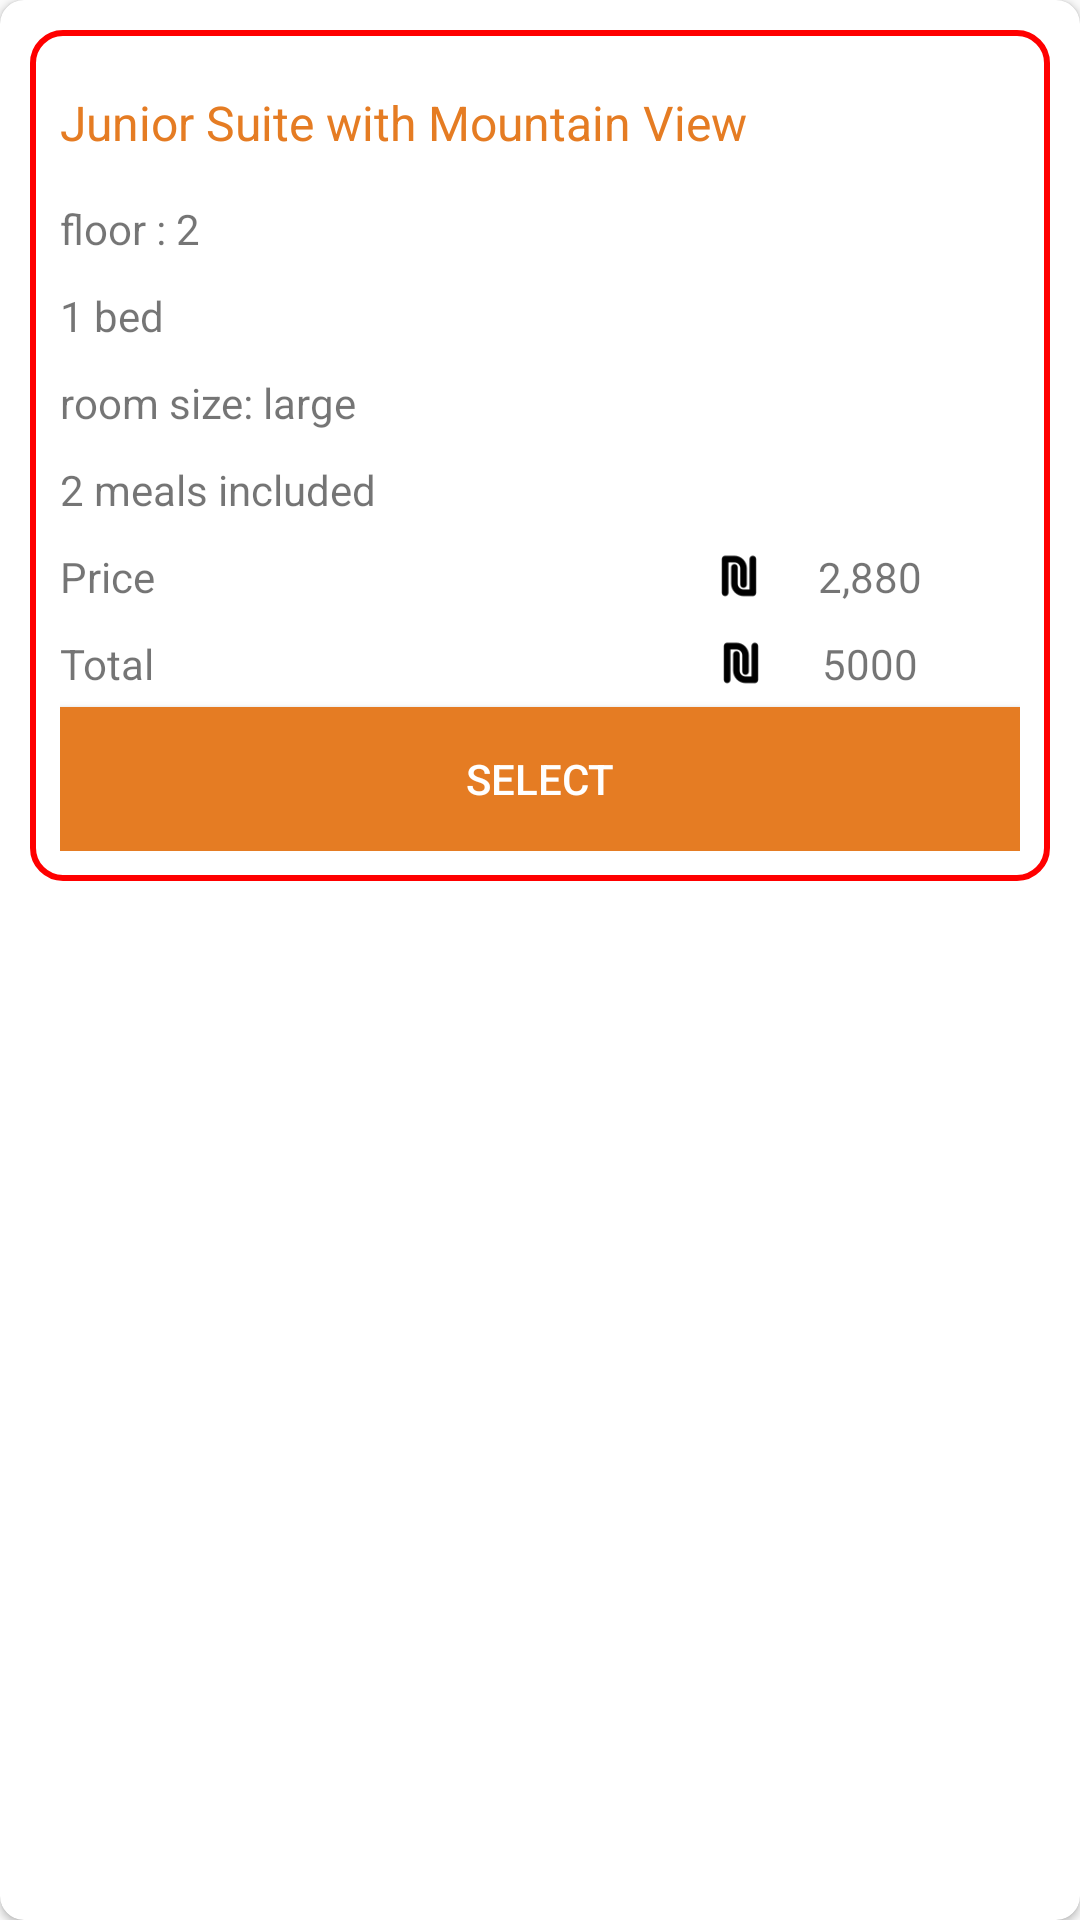

Point at icon controls on the screen. Image size 1080 x 1920, points as (x=x, y=y).
shekel: (x=739, y=576), (x=741, y=663)
